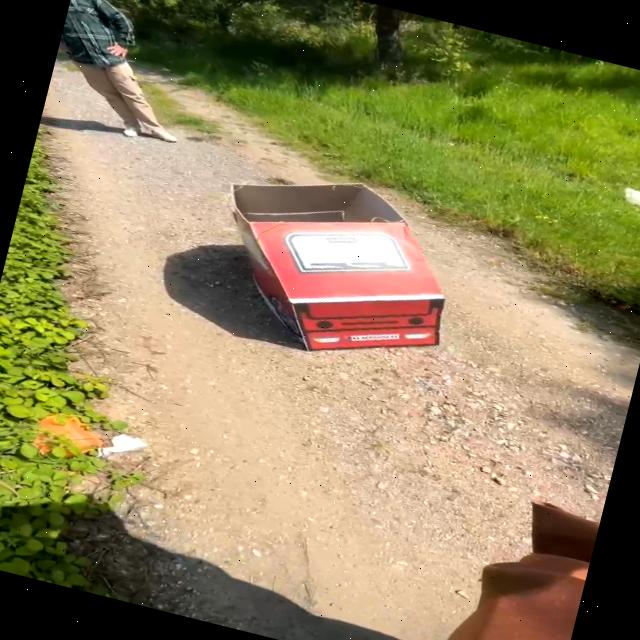red_car: (177, 144, 501, 399)
